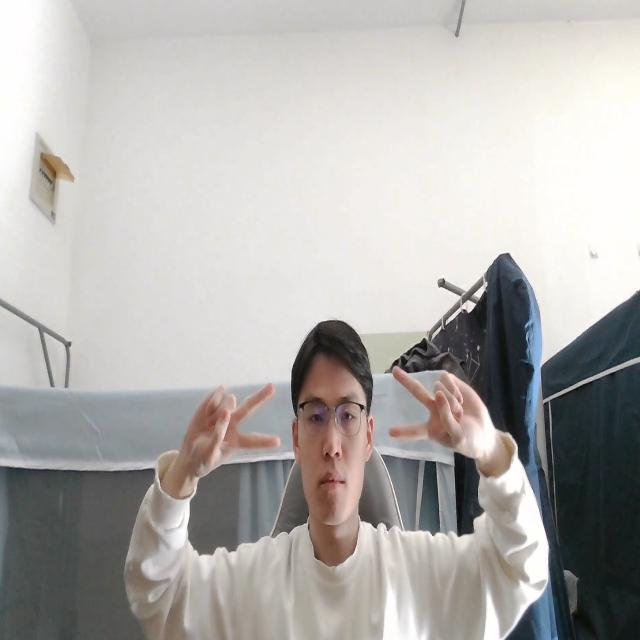yes: (167, 375, 286, 494), (384, 360, 506, 471)
